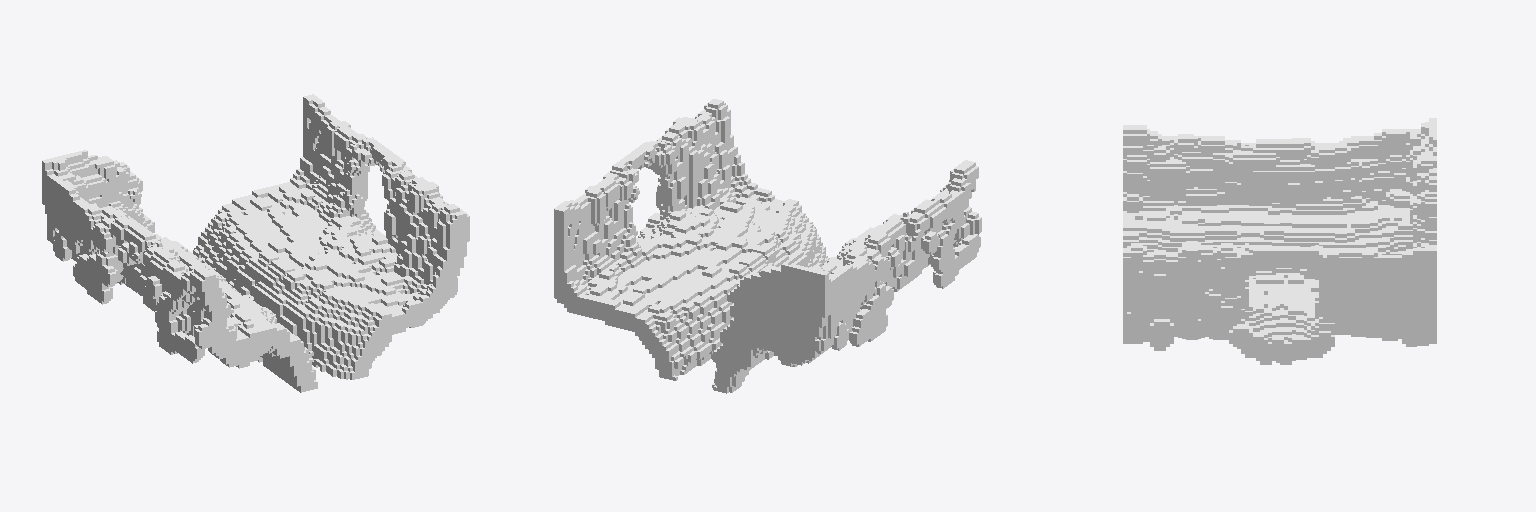
The model's file is land.obj.
3 renders of one model, left to right at view 1: azimuth 30°, elevation 25°; view 2: azimuth 150°, elevation 25°; view 3: azimuth 270°, elevation 25°, orthographic.
Visible parts, largest first — view 1: object 1; view 2: object 1; view 3: object 1.
Boxes of the visible parts, box(x1,y1,x2,y2) form: object 1: box(42, 94, 469, 392); object 1: box(554, 99, 981, 393); object 1: box(1123, 118, 1436, 364).
Bounding box in the file's own units: 8 × 4 × 8.